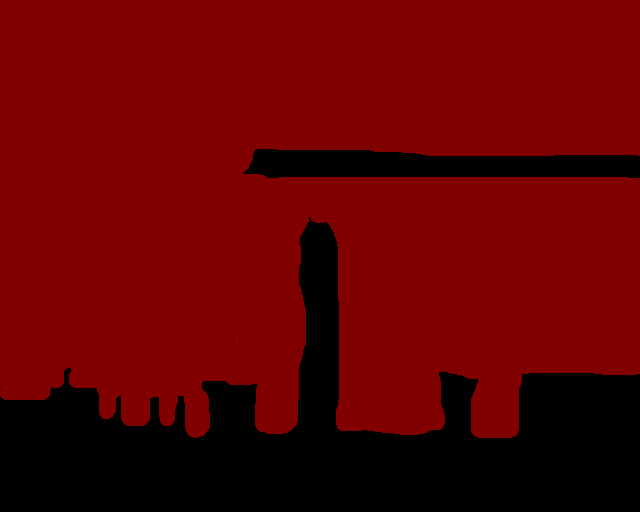Sky: (1, 1, 639, 437)
